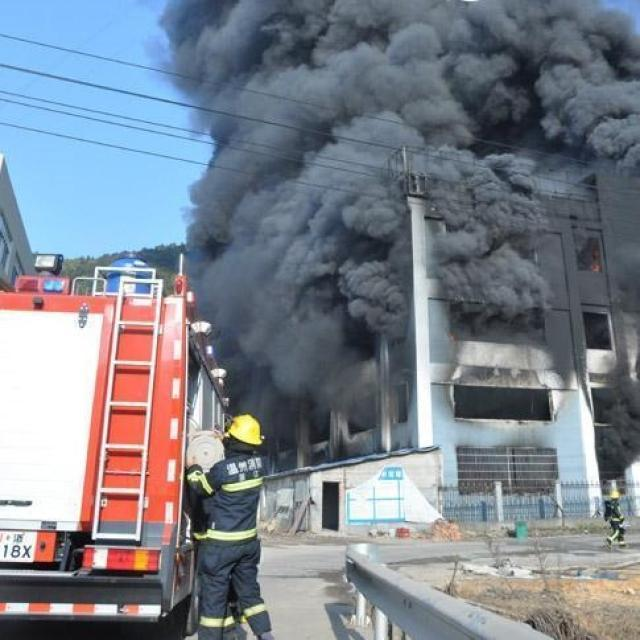Smoke: (183, 0, 640, 180), (198, 162, 410, 404), (422, 154, 553, 326), (596, 362, 640, 480)
